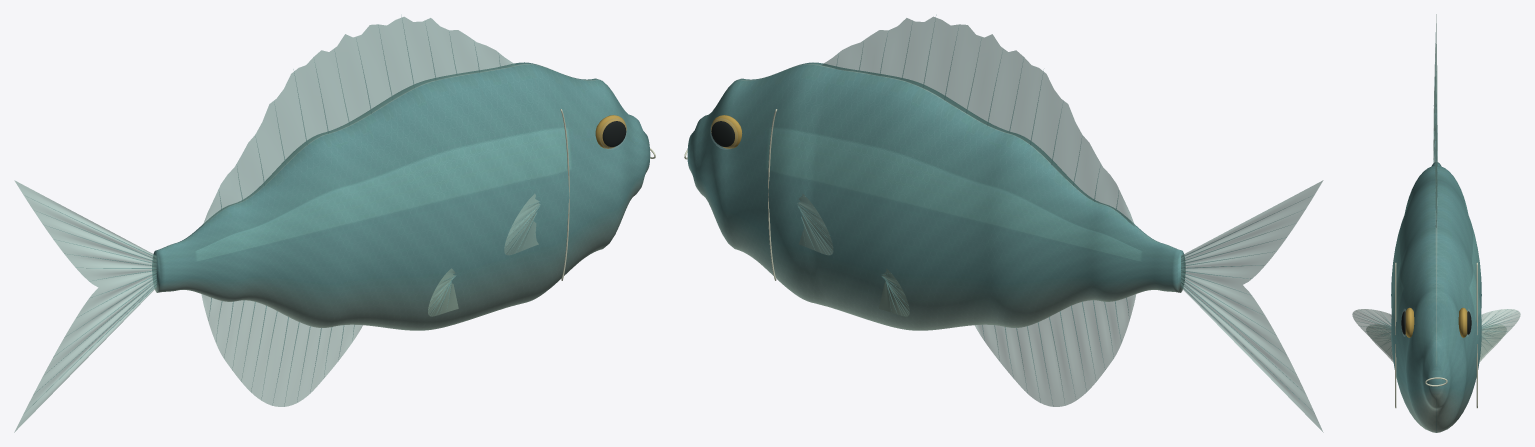
File: chromis-desktop.glb
3 renders of one model, left to right at view 1: azimuth 30°, elevation 25°; view 2: azimuth 150°, elevation 25°; view 3: azimuth 270°, elevation 25°, orthographic. The views are drawn at different scales.
Parts seen in each view (by area): view 1: skin, dorsal, tail, anal, dorsal-ray, pectoral-left, pelvic-left; view 2: skin, dorsal, tail, anal, dorsal-ray, pectoral-left, pelvic-left; view 3: skin, pectoral-left, pelvic-left, dorsal-ray, operculum, eye-iris--1, tail, dorsal, eye-pupil--1.
Part boxes in pixels (x1,y1,x2,y2): skin: (152,62,650,330); dorsal: (202,17,515,226); tail: (14,180,156,432); anal: (201,294,362,406); dorsal-ray: (32,16,540,405); pectoral-left: (504,193,540,255); pelvic-left: (428,268,458,316); skin: (687,62,1185,330); dorsal: (822,16,1134,226); tail: (1181,180,1323,432); anal: (975,294,1136,406); dorsal-ray: (797,15,1311,410); pectoral-left: (797,194,833,255); pelvic-left: (879,268,909,316); skin: (1391,162,1481,432); pectoral-left: (1352,309,1520,359); pelvic-left: (1366,324,1506,362); dorsal-ray: (1358,32,1517,351); operculum: (1395,262,1477,408); eye-iris--1: (1405,307,1467,337); tail: (1433,14,1437,162); dorsal: (1435,94,1437,227); eye-pupil--1: (1401,311,1471,334).
Bounding box in the file's own units: 0.6152 × 0.3374 × 0.167.
Materials: 11 (1 with a texture image).
